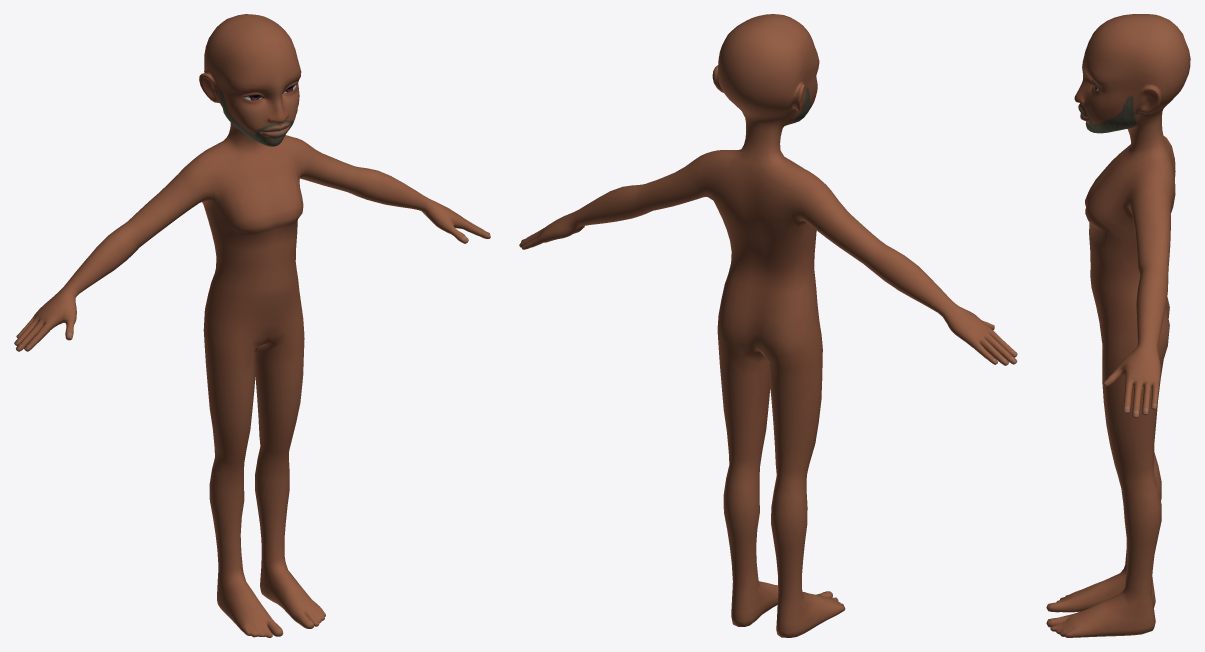
The model's file is frame_0047.glb.
The picture shows the model from 3 angles, left to right: view 1: azimuth 30°, elevation 25°; view 2: azimuth 150°, elevation 25°; view 3: azimuth 270°, elevation 25°; orthographic projection. The views are drawn at different scales.
Visible parts, largest first — view 1: frame_0047_head_geo; view 2: frame_0047_head_geo; view 3: frame_0047_head_geo.
Part boxes in pixels (x1,y1,x2,y2): frame_0047_head_geo: (14, 14, 490, 637); frame_0047_head_geo: (519, 14, 1017, 637); frame_0047_head_geo: (1046, 14, 1190, 637).
Bounding box in the file's own units: 1.28 × 1.5 × 0.3253.
3 materials, 3 textured.
